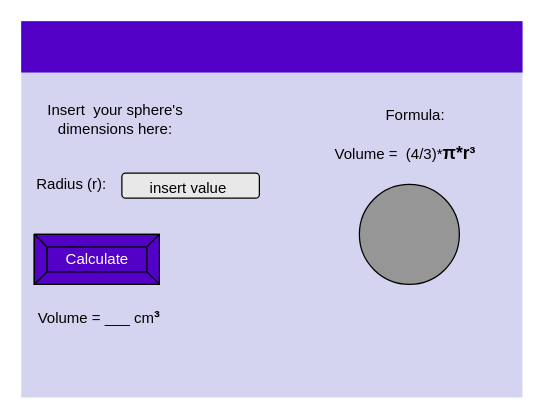
The diagram is 544 pixels wide and 419 high, and some of its shapes have lost their labels. Here are the shapes that lost their labels. From the top down, the centre of each, then its label:
At [271,46]: "volume of a sphere".
At [408,233]: "(image)".
